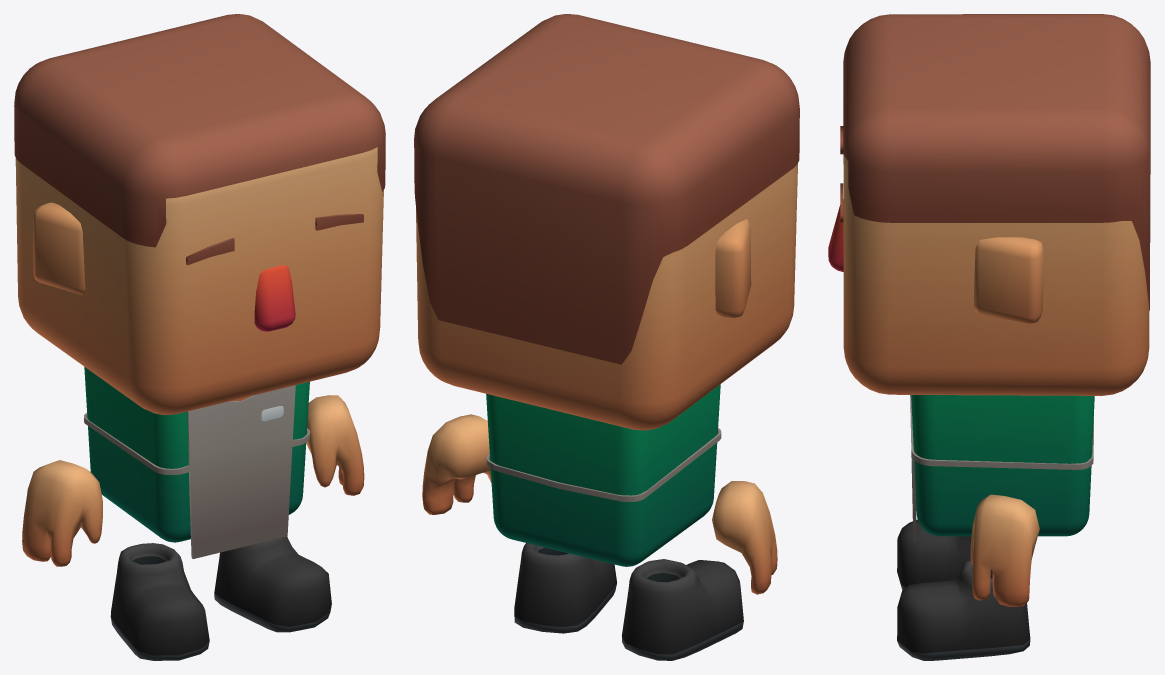
The model's file is docente_marketing.glb.
The picture shows the model from 3 angles, left to right: view 1: azimuth 30°, elevation 25°; view 2: azimuth 150°, elevation 25°; view 3: azimuth 270°, elevation 25°; orthographic projection. The views are drawn at different scales.
Visible parts, largest first — view 1: Cube.008; view 2: Cube.008; view 3: Cube.008.
Boxes of the visible parts, x1,y1,x2,y2 form: Cube.008: (14, 14, 385, 660); Cube.008: (414, 14, 799, 660); Cube.008: (828, 14, 1150, 660).
Bounding box in the file's own units: 0.7795 × 1.2 × 0.6361.
Materials: 1 (1 with a texture image).
